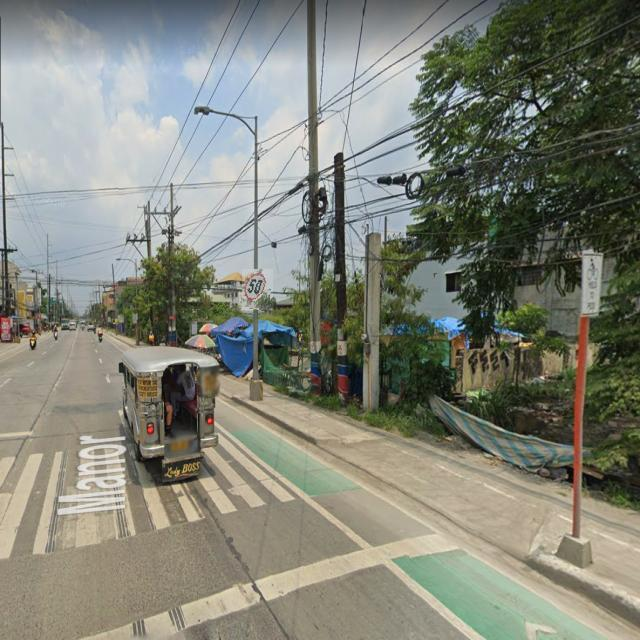50 kph: (242, 269, 273, 310)
